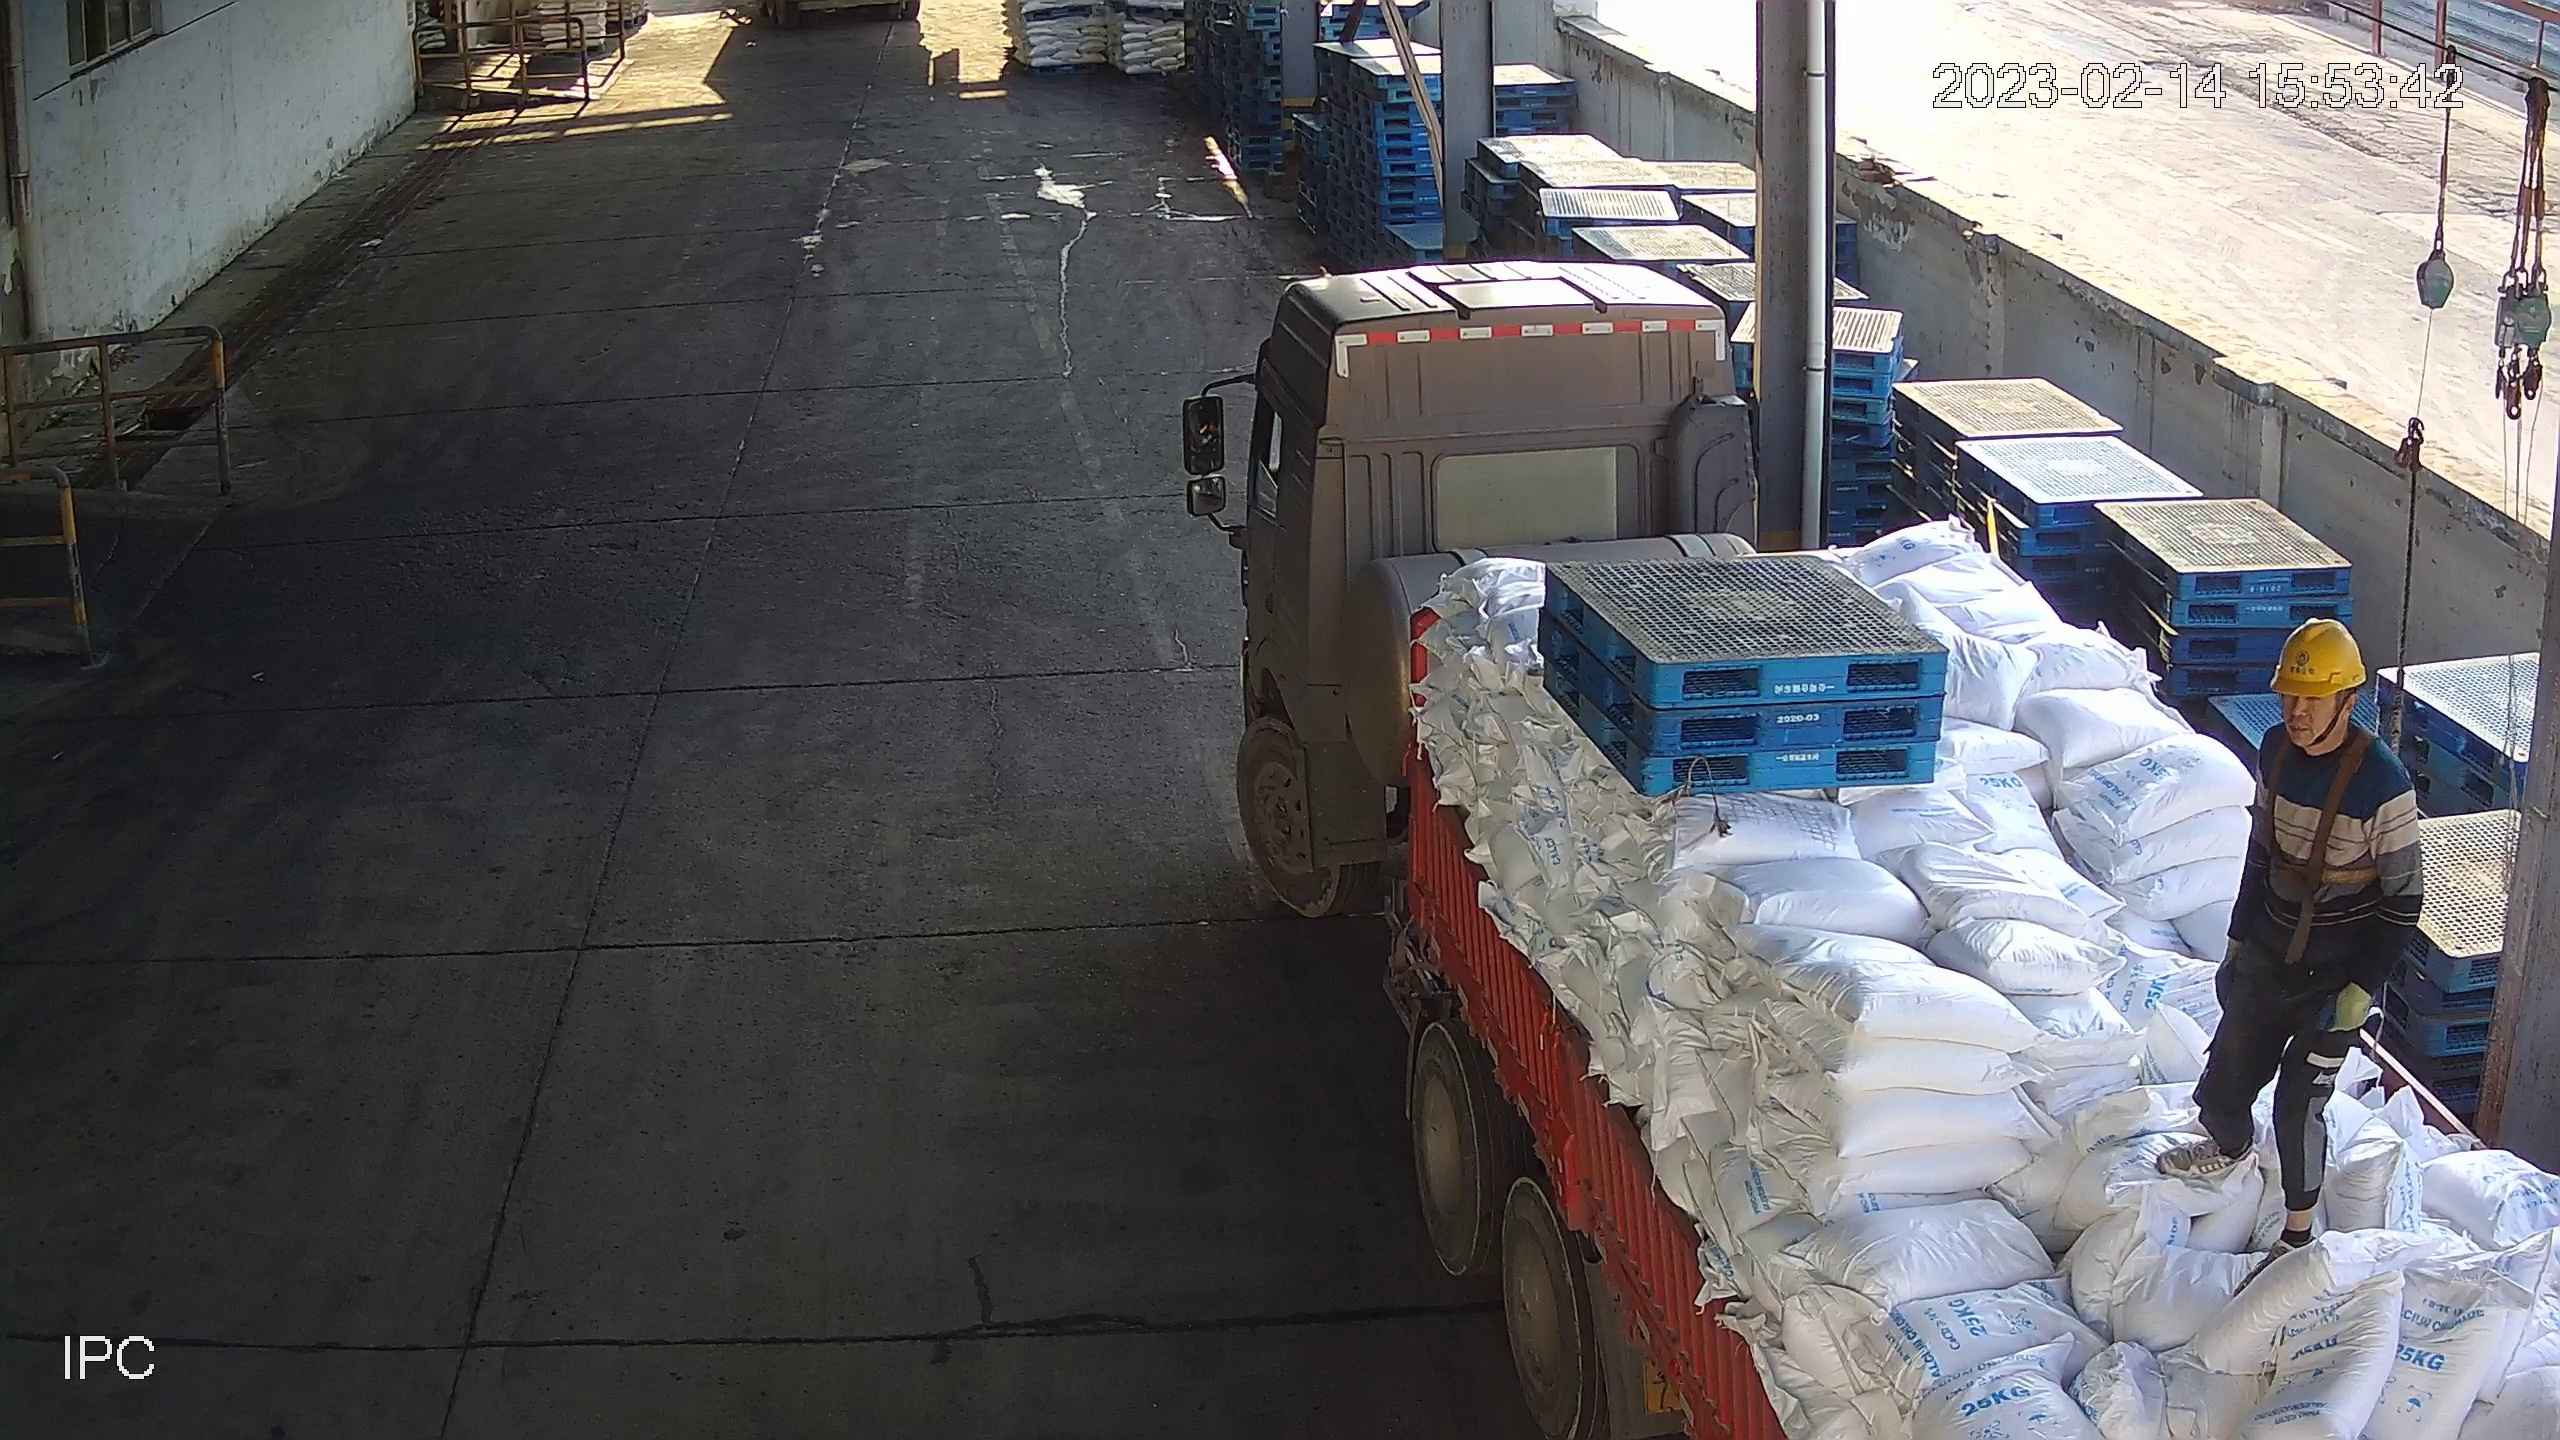belt: (2247, 720, 2399, 918)
head: (2240, 608, 2422, 836)
helmet: (2264, 608, 2373, 703)
people: (2159, 607, 2425, 1255)
truck: (1177, 262, 2560, 1440)
